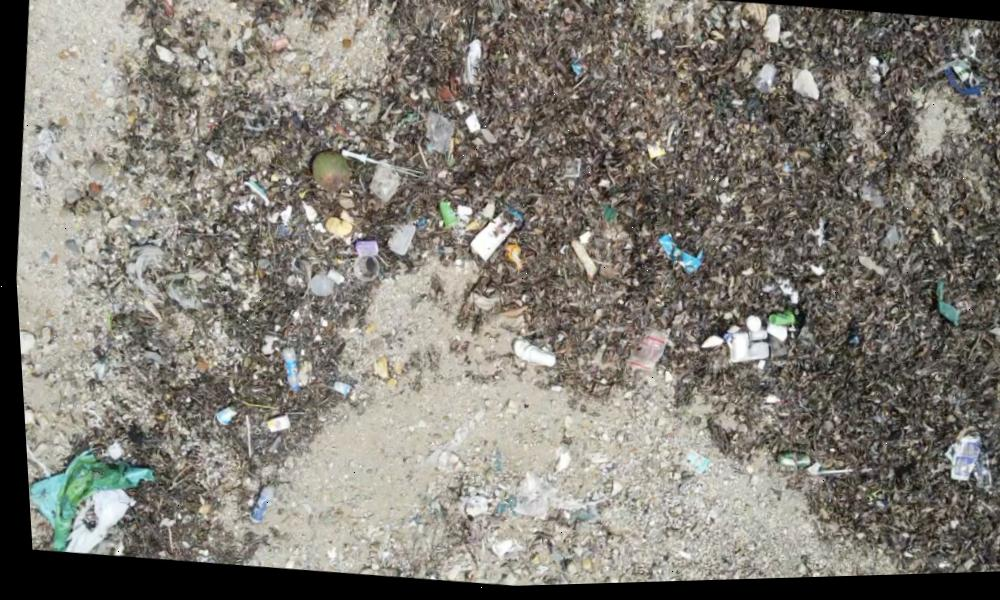carton: (350, 239, 380, 263), (259, 412, 286, 438)
plastic bag: (21, 452, 149, 561)
plastic bottle: (238, 482, 271, 529), (273, 347, 296, 396)
